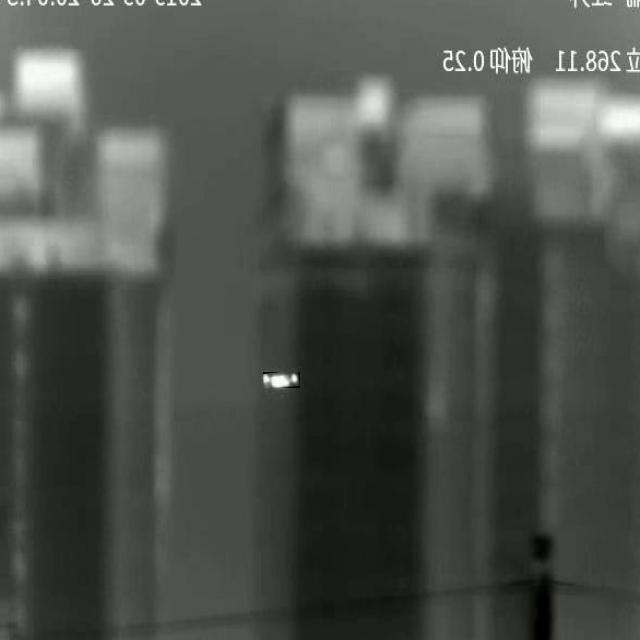drone: (263, 373, 299, 388)
